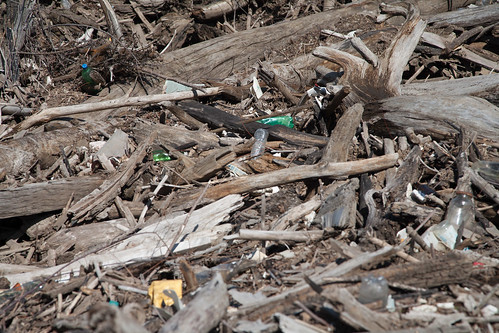trash: (46, 44, 390, 305)
vegetation: (13, 1, 485, 324)
